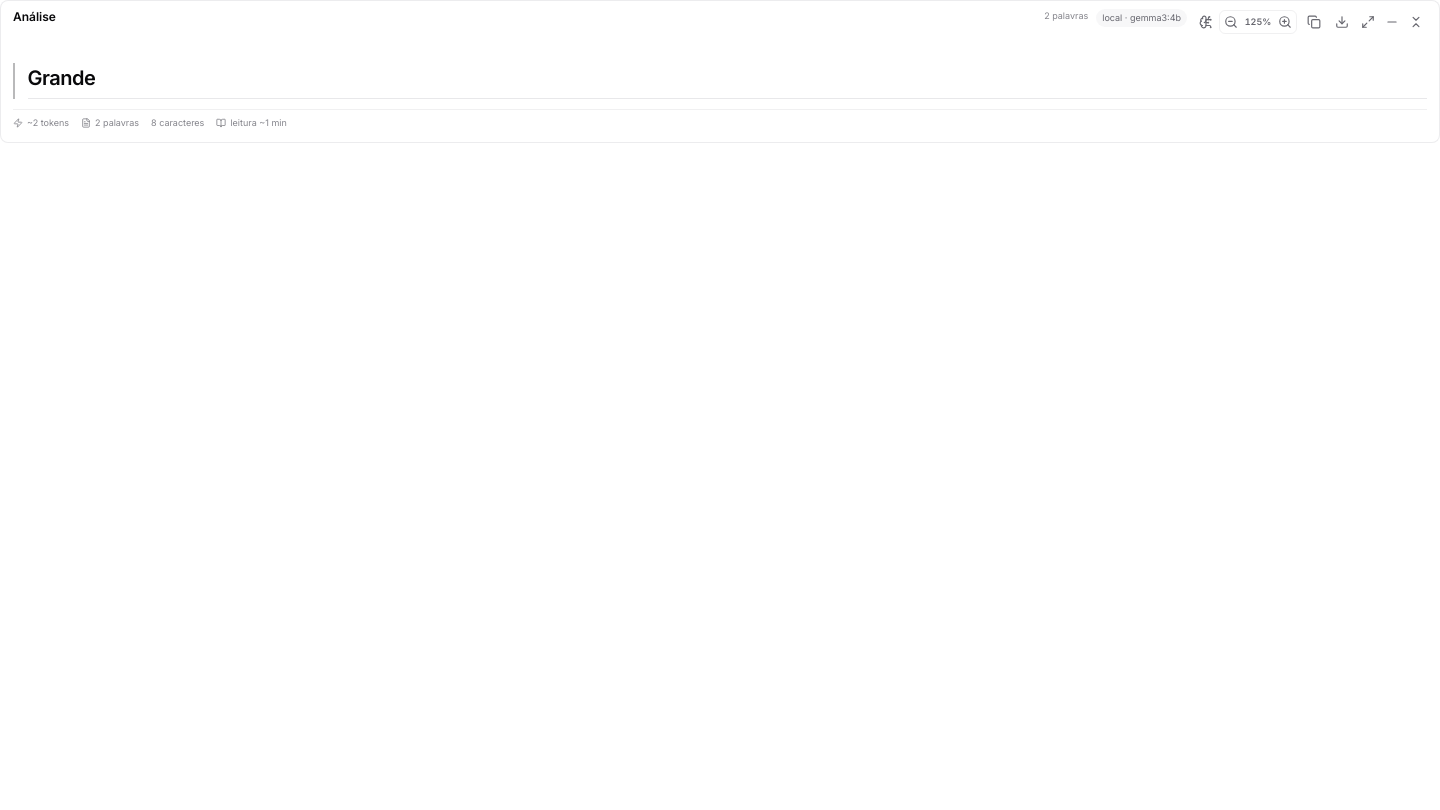
AIOutputCard — comportamento geral › abre e fecha o fullscreen
Click the button named "Maximizar conteúdo": (1368, 22) [1357,11,1379,33]
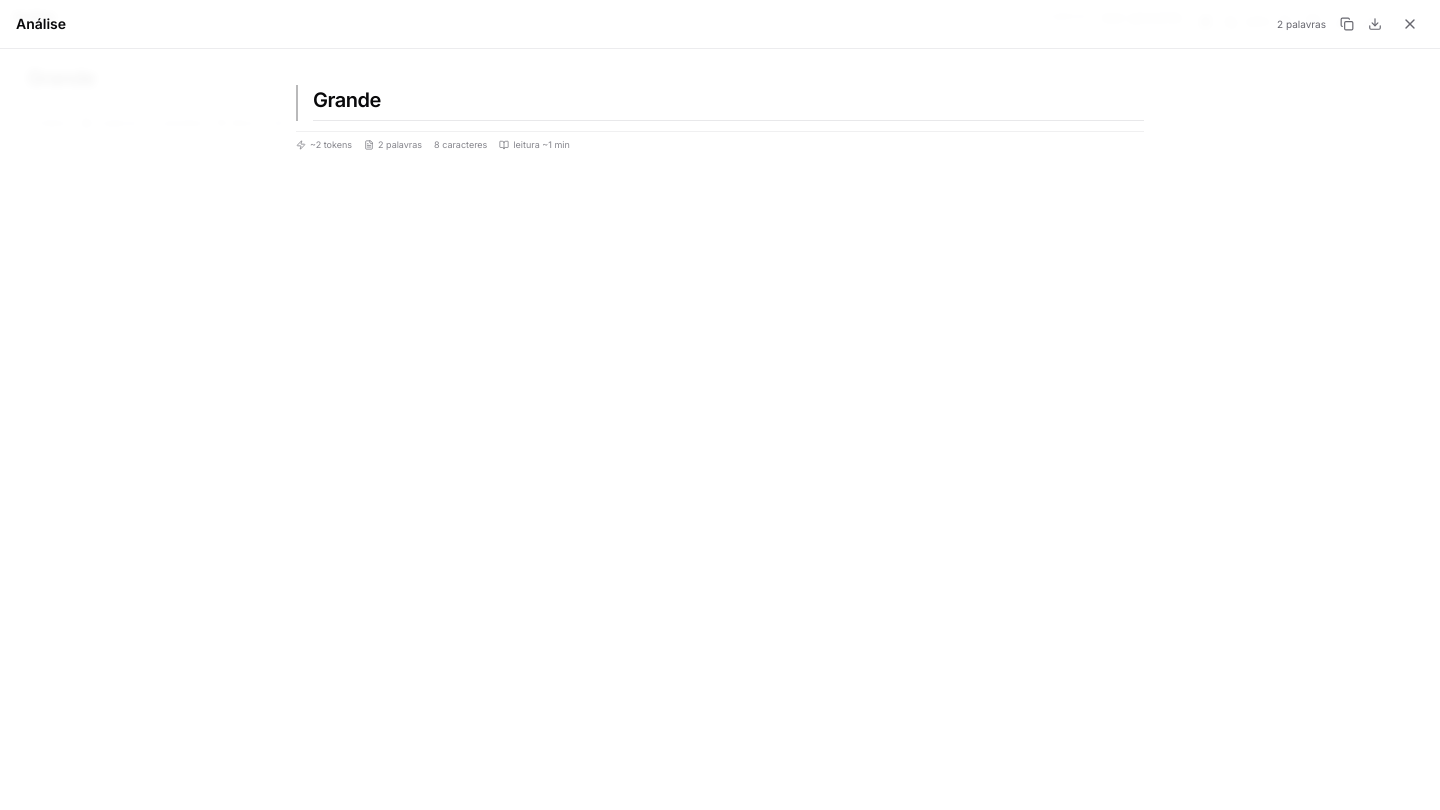
Now the dialog named "em tela cheia" is shown
Click the button named "Fechar tela cheia": (1410, 24) [1396,10,1424,38]
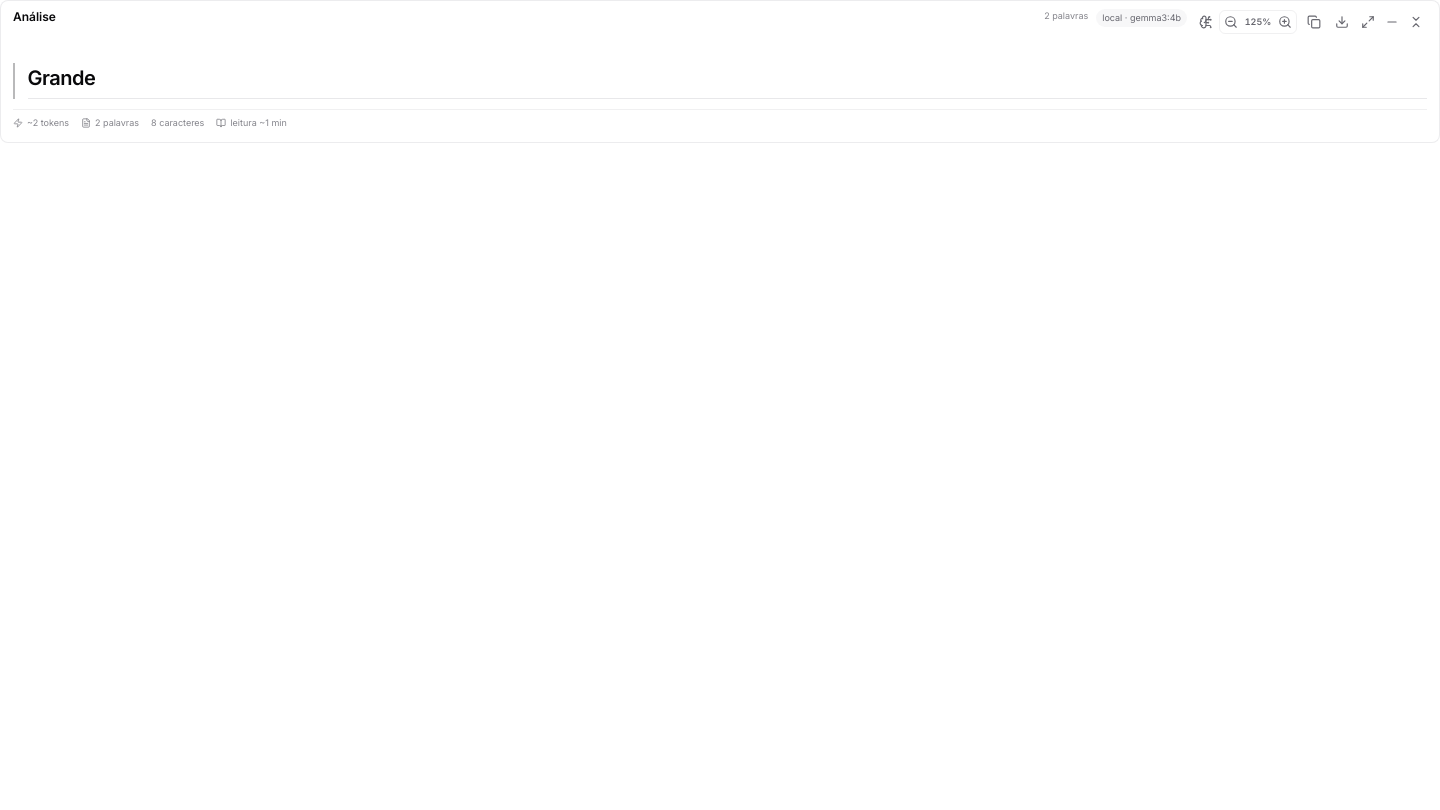
Now the dialog is gone
